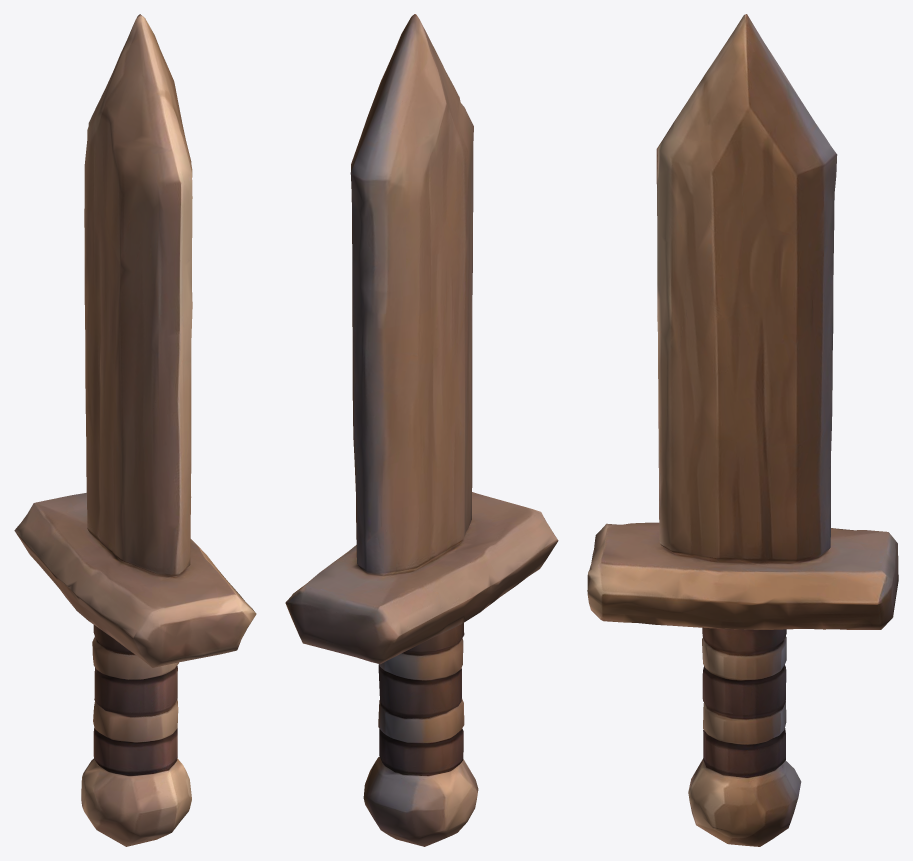
The model's file is w_wood--dagger.glb.
The picture shows the model from 3 angles, left to right: view 1: azimuth 30°, elevation 25°; view 2: azimuth 150°, elevation 25°; view 3: azimuth 270°, elevation 25°; orthographic projection.
Visible parts, largest first — view 1: Weapon; view 2: Weapon; view 3: Weapon.
Part boxes in pixels (x1,y1,x2,y2): Weapon: [14, 14, 256, 846]; Weapon: [285, 14, 558, 846]; Weapon: [587, 14, 898, 846].
Size of the model in its own units: 0.1739 by 0.9814 by 0.3344.
Materials: 1 (1 with a texture image).
